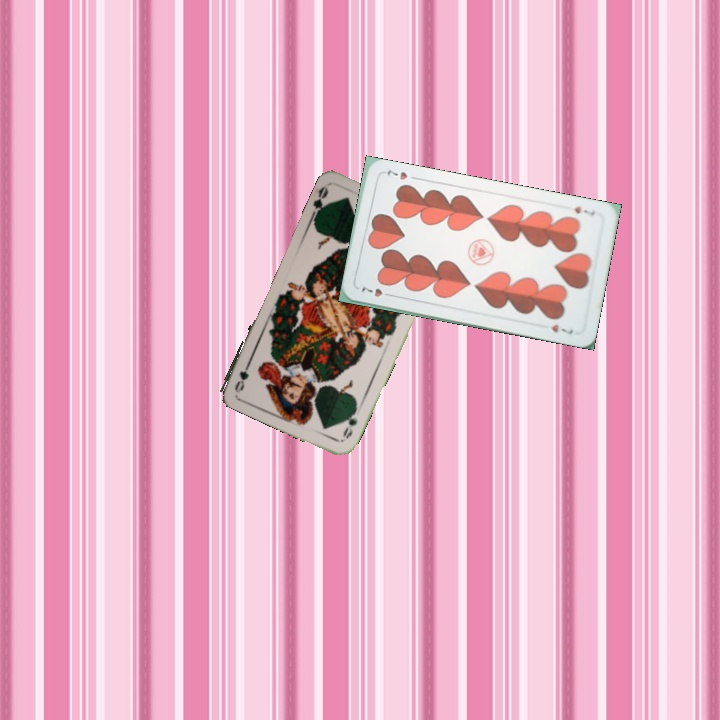GO: (307, 181, 332, 221), (339, 404, 360, 441)
H7: (357, 283, 396, 300), (570, 202, 597, 218)
